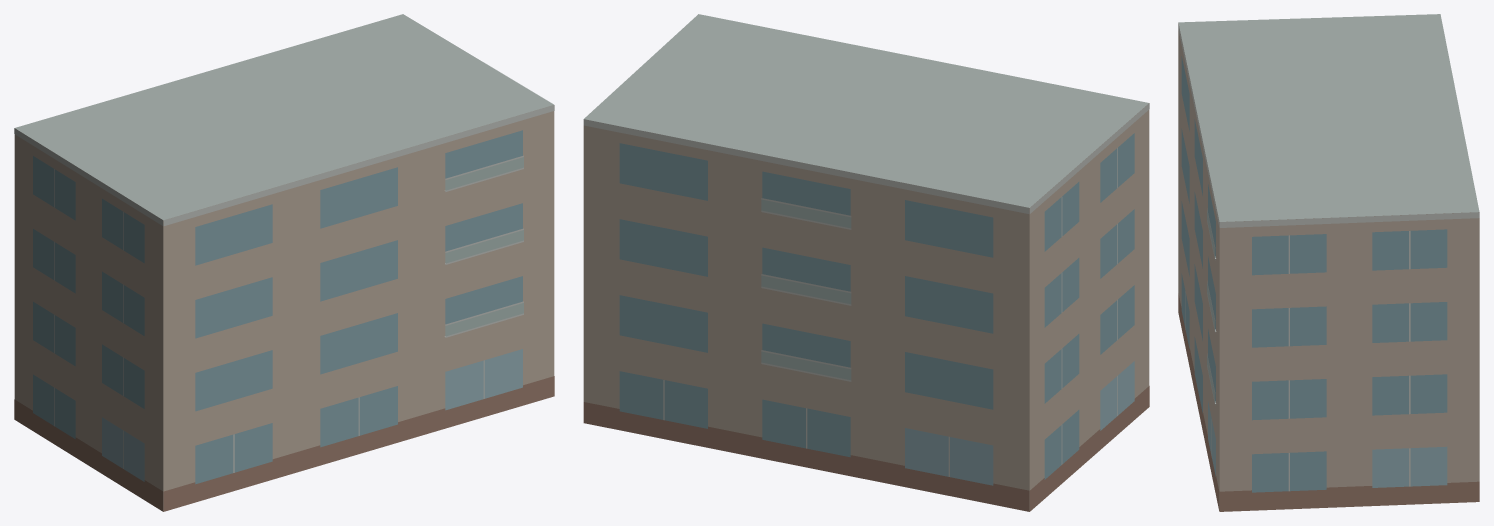
Rendered from survey-upis-32756423.glb.
The picture shows the model from 3 angles, left to right: view 1: azimuth 30°, elevation 25°; view 2: azimuth 150°, elevation 25°; view 3: azimuth 270°, elevation 25°; orthographic projection. The views are drawn at different scales.
Visible parts, largest first — view 1: survey-upis-32756423.tmp; view 2: survey-upis-32756423.tmp; view 3: survey-upis-32756423.tmp.
Boxes of the visible parts, x1=… form: survey-upis-32756423.tmp: x1=14, y1=14, x2=554, y2=511; survey-upis-32756423.tmp: x1=583, y1=14, x2=1149, y2=511; survey-upis-32756423.tmp: x1=1178, y1=14, x2=1479, y2=511.
Size of the model in its own units: 18.02 by 11.7 by 11.03.
